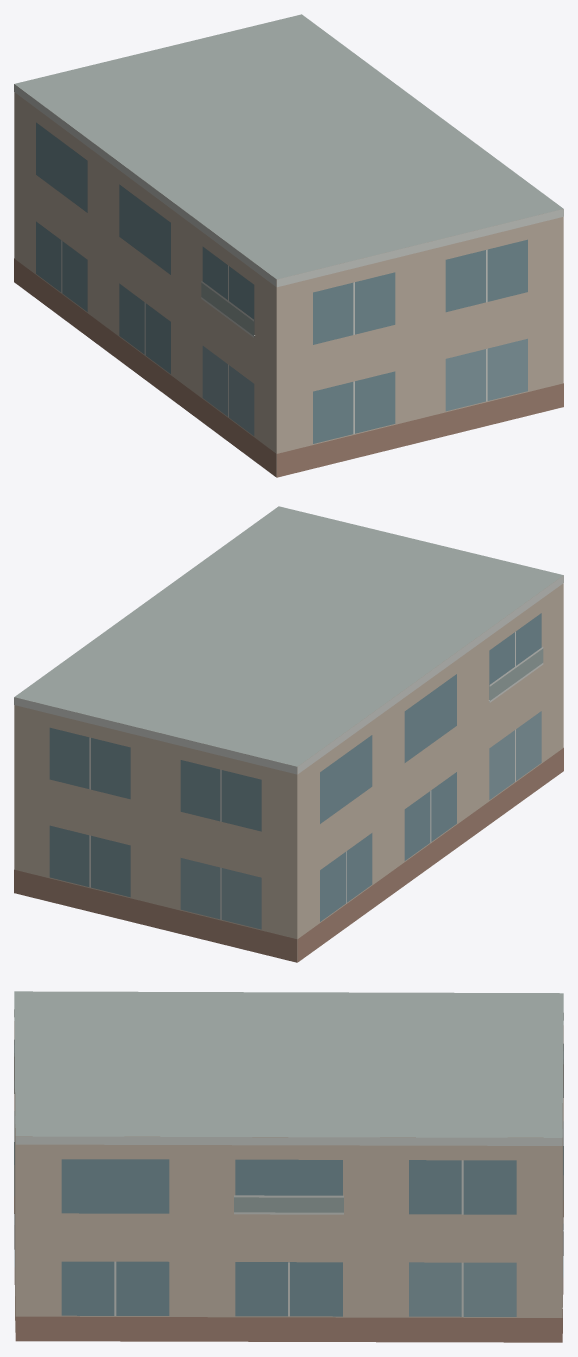
Rendered from survey-upis-32888908.glb.
3 renders of one model, top to bottom at view 1: azimuth 30°, elevation 25°; view 2: azimuth 150°, elevation 25°; view 3: azimuth 270°, elevation 25°, orthographic. The views are drawn at different scales.
Visible parts, largest first — view 1: survey-upis-32888908.tmp; view 2: survey-upis-32888908.tmp; view 3: survey-upis-32888908.tmp.
Boxes of the visible parts, x1,y1,x2,y2 form: survey-upis-32888908.tmp: (14,14,563,477); survey-upis-32888908.tmp: (14,506,563,962); survey-upis-32888908.tmp: (14,991,563,1342).
Bounding box in the file's own units: 9.4 × 6.1 × 14.86.
